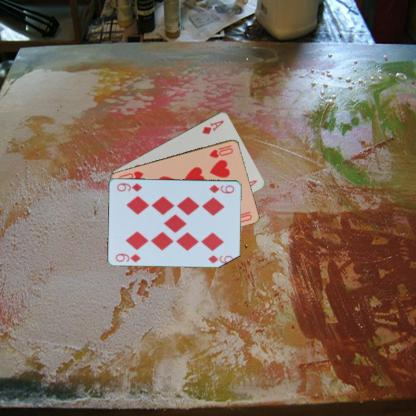10h: (207, 142, 234, 159)
9d: (207, 182, 236, 195), (113, 251, 142, 263)
Ad: (199, 117, 225, 135)
